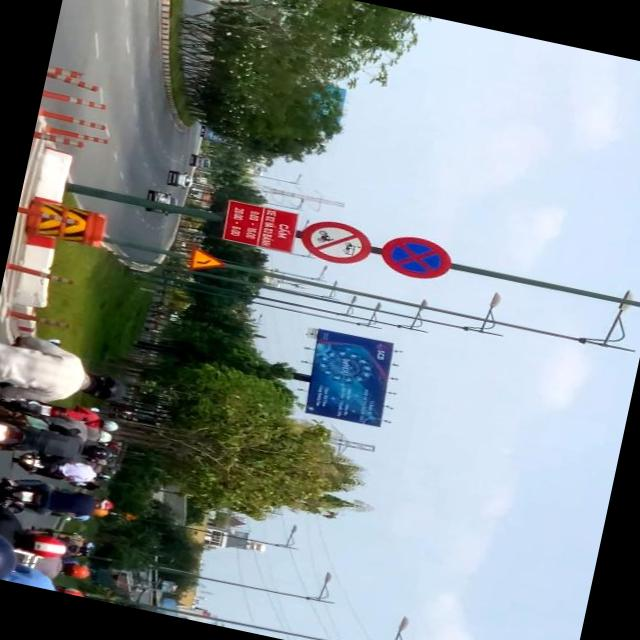P-104: (295, 215, 376, 270)
P-130: (377, 229, 456, 284)
W-201a: (186, 245, 228, 273)
